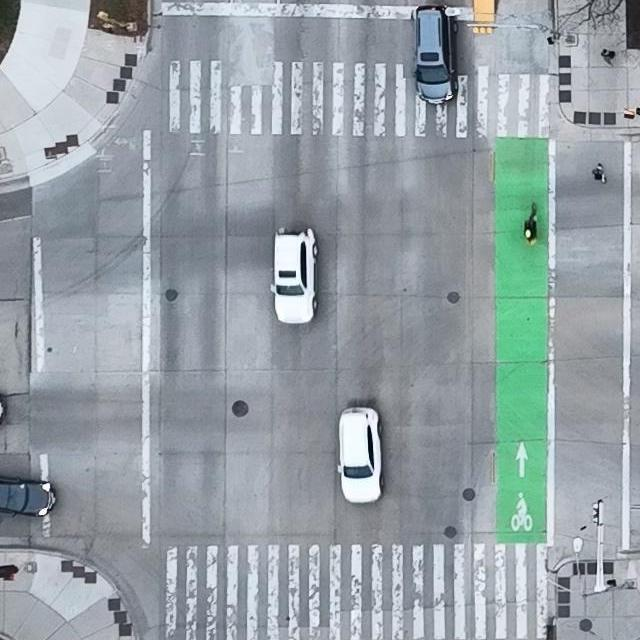car: (334, 407, 385, 505), (270, 225, 319, 326), (413, 4, 458, 105), (0, 476, 58, 517)
